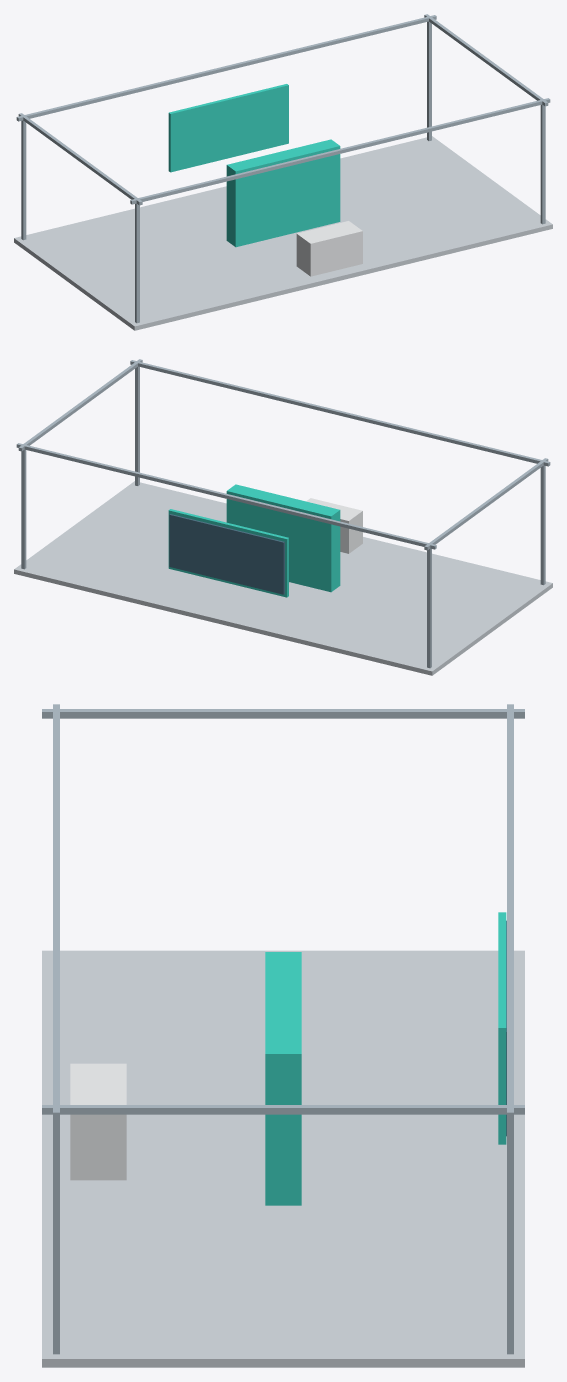
The picture shows the model from 3 angles, top to bottom: view 1: azimuth 30°, elevation 25°; view 2: azimuth 150°, elevation 25°; view 3: azimuth 270°, elevation 25°; orthographic projection. The views are drawn at different scales.
Parts seen in each view (by area): view 1: Exhibition Booth Concept; view 2: Exhibition Booth Concept; view 3: Exhibition Booth Concept.
Part boxes in pixels (bbox=[...]): Exhibition Booth Concept: bbox=[14, 14, 552, 330]; Exhibition Booth Concept: bbox=[14, 359, 552, 675]; Exhibition Booth Concept: bbox=[42, 704, 524, 1367].
Size of the model in its own units: 12 by 3.49 by 6.
